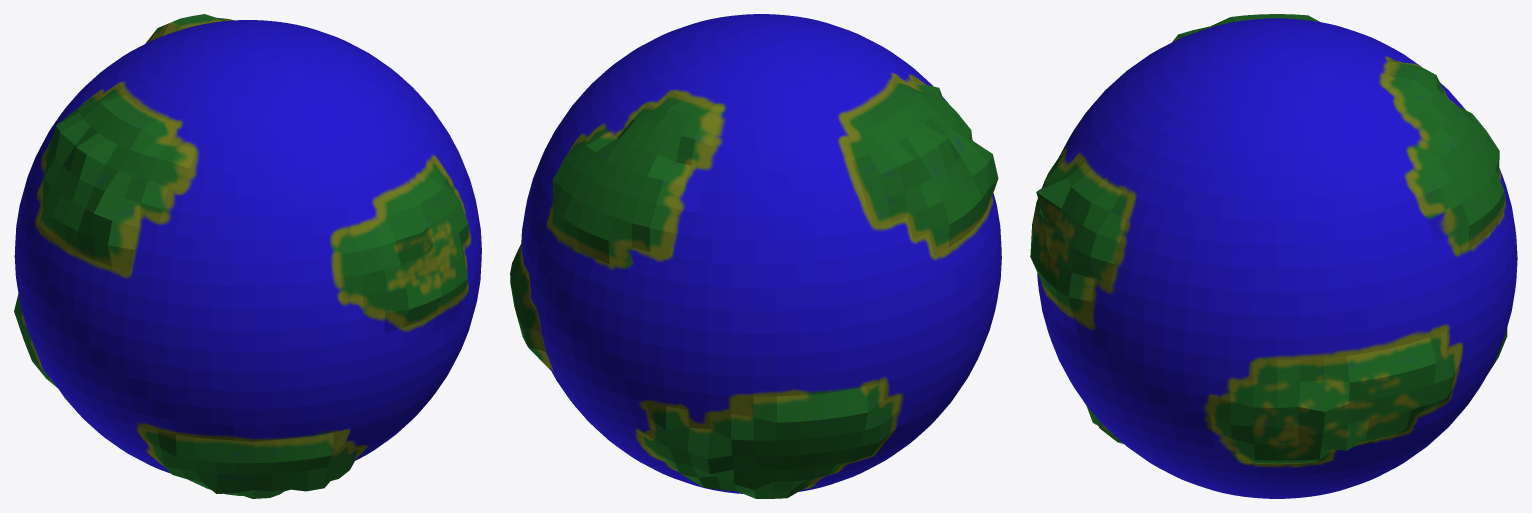
The model's file is Planet_2.1.glb.
3 views of the same model, side by side, from view 1: azimuth 30°, elevation 25°; view 2: azimuth 150°, elevation 25°; view 3: azimuth 270°, elevation 25° (orthographic). The views are drawn at different scales.
Parts seen in each view (by area): view 1: Sphere; view 2: Sphere; view 3: Sphere.
Boxes of the visible parts, <box> form: Sphere: <box>14,14,481,498</box>; Sphere: <box>510,14,1001,498</box>; Sphere: <box>1030,14,1517,498</box>.
Bounding box in the file's own units: 2.06 × 2 × 2.03.
1 material, 1 textured.
